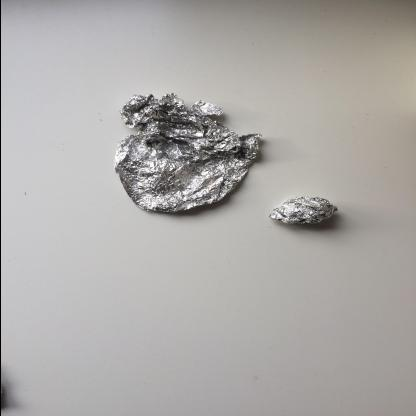metal: (112, 93, 264, 216), (266, 195, 338, 227)
